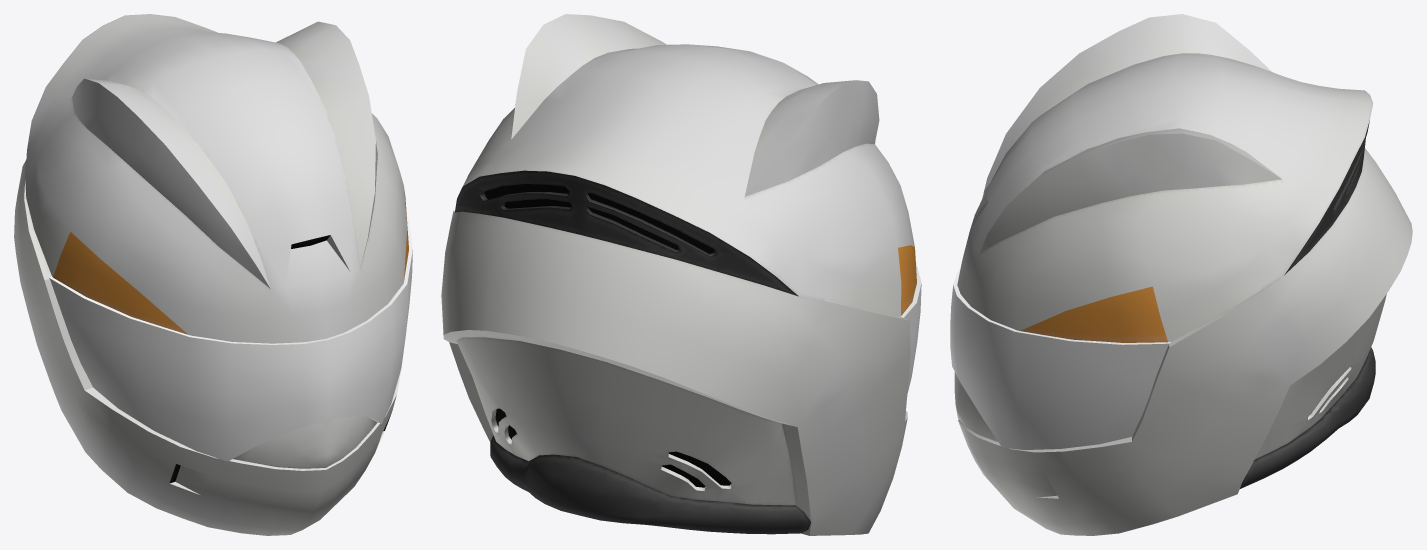
The model's file is p0_hdw0101_00_hdw00.gltf.
The picture shows the model from 3 angles, left to right: view 1: azimuth 30°, elevation 25°; view 2: azimuth 150°, elevation 25°; view 3: azimuth 270°, elevation 25°; orthographic projection. The views are drawn at different scales.
Visible parts, largest first — view 1: hdw00_met_mesh_shape:cap, hdw00_shield_mesh_shape:faceshield; view 2: hdw00_met_mesh_shape:cap, hdw00_shield_mesh_shape:faceshield; view 3: hdw00_met_mesh_shape:cap, hdw00_shield_mesh_shape:faceshield.
Part boxes in pixels (x1,y1,x2,y2): hdw00_met_mesh_shape:cap: (14, 14, 408, 535); hdw00_shield_mesh_shape:faceshield: (49, 214, 412, 461); hdw00_met_mesh_shape:cap: (441, 14, 916, 535); hdw00_shield_mesh_shape:faceshield: (899, 262, 921, 392); hdw00_met_mesh_shape:cap: (954, 14, 1412, 535); hdw00_shield_mesh_shape:faceshield: (950, 268, 1170, 449).
Size of what is drawn, in the model's own units: 0.3123 by 0.3555 by 0.338.
Materials: 3 (1 with a texture image).
